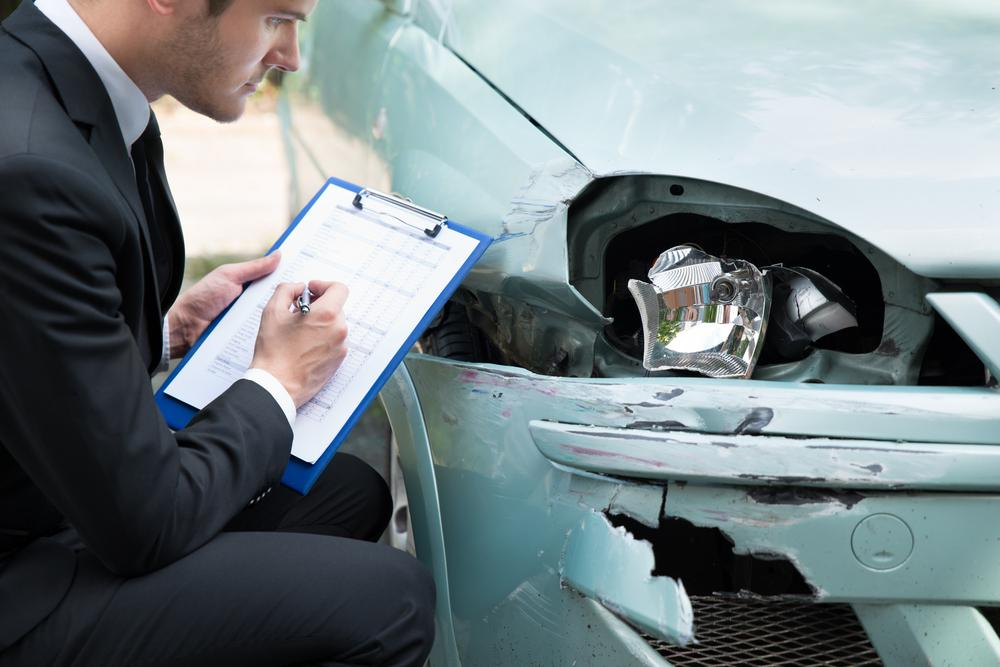crack: (592, 477, 826, 638)
lamp broken: (563, 178, 978, 379)
scratch: (446, 368, 939, 535), (494, 158, 594, 272), (480, 577, 568, 644)
